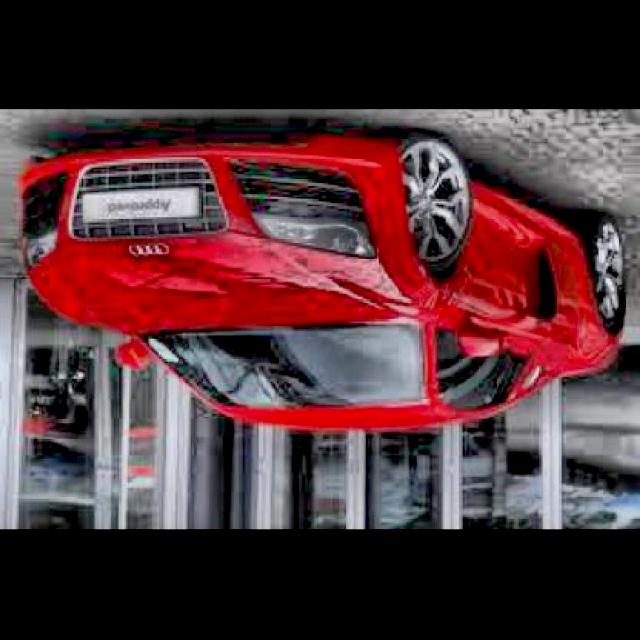red: (19, 134, 622, 433)
